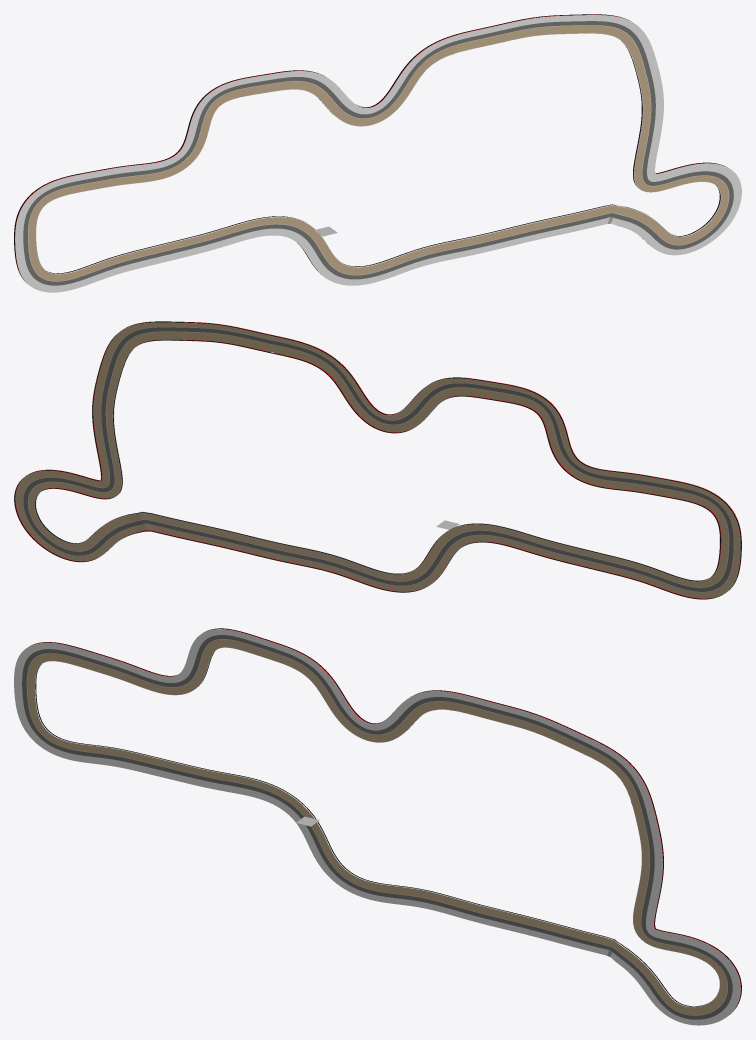
File: Extra2.fbx
The picture shows the model from 3 angles, top to bottom: view 1: azimuth 30°, elevation 25°; view 2: azimuth 150°, elevation 25°; view 3: azimuth 330°, elevation 25°; orthographic projection.
Parts seen in each view (by area): view 1: 平面; view 2: 平面; view 3: 平面.
Part boxes in pixels (box(x1,y1,x2,y2)): 平面: box(14, 14, 741, 292); 平面: box(14, 321, 741, 599); 平面: box(14, 628, 741, 1025).
Size of the model in its own units: 9530 by 3546 by 323.
Materials: 7 (4 with a texture image).
